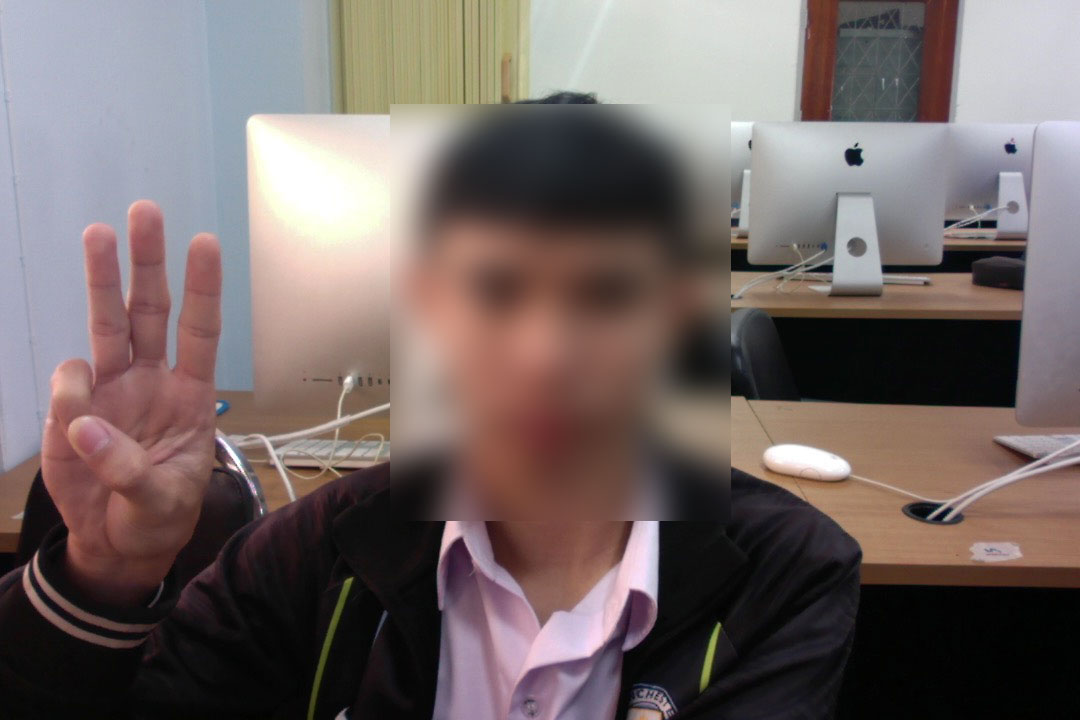wor: (26, 183, 253, 604)
